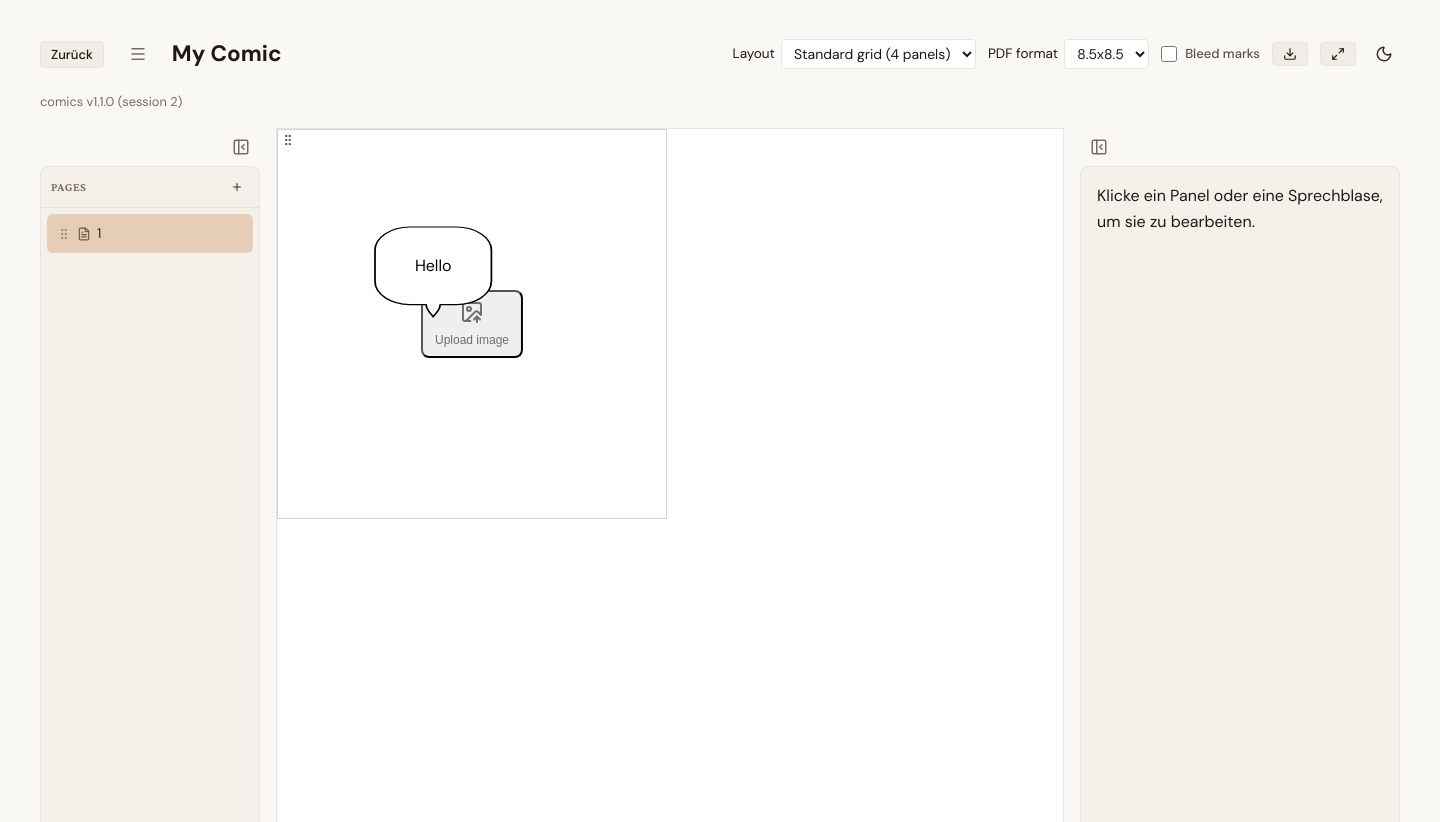
Test: ComicBookEditor (Session 2 C6 full editor) › renders LayoutConfigComicBubble in side pane after bubble click
The image size is (1440, 822).
Click the button "Hello": coordinates (433, 266) [375,228,491,305]
(page scrolled)
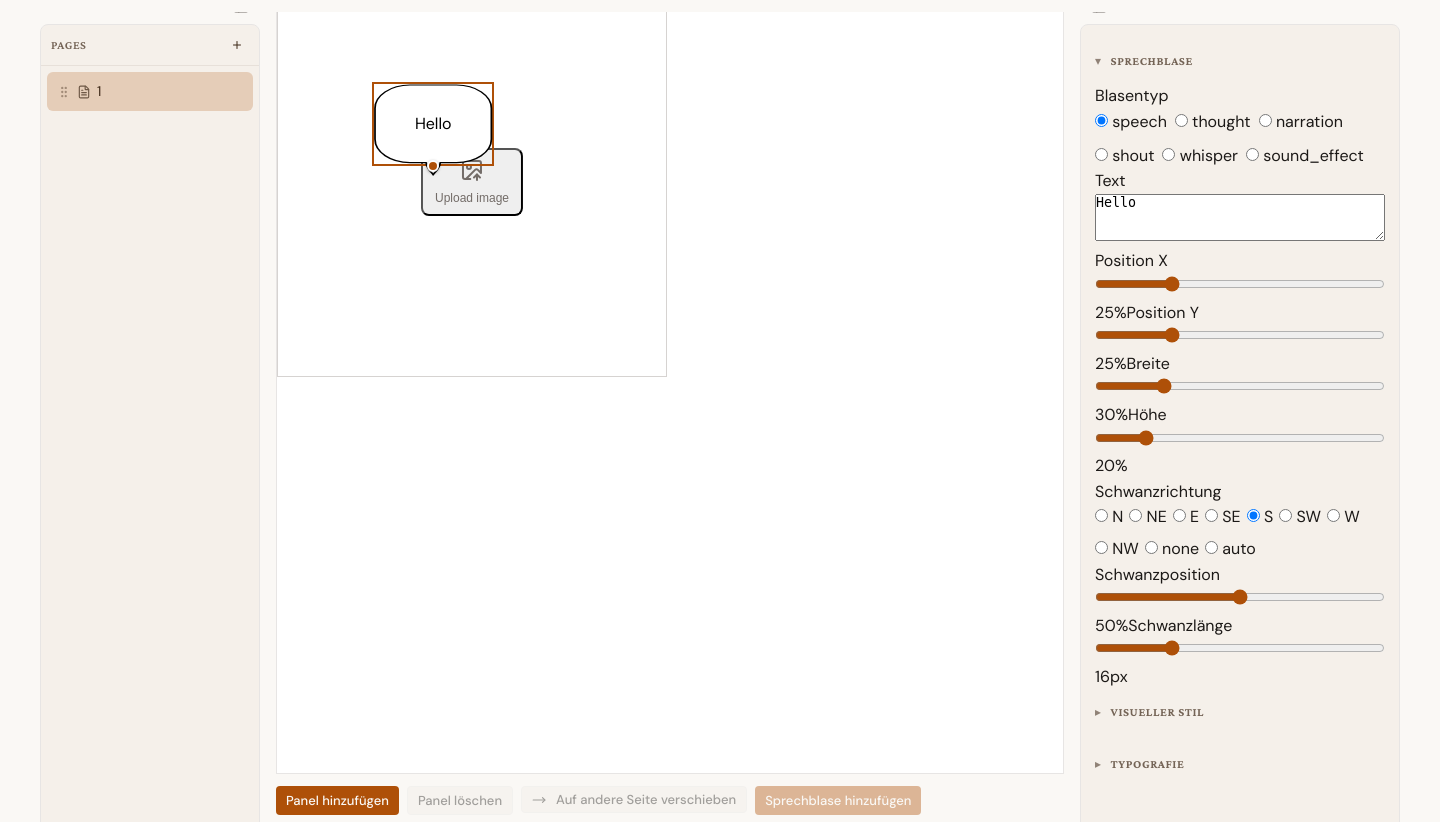
Check: the element with test id "layout-config-comic-bubble" is shown, box [1081,26,1399,808]
